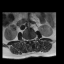CCS_normal: (29, 37, 30, 44)
LFS_normal: (32, 36, 34, 42)
LLS_normal: (30, 37, 32, 43)
RFS_normal: (25, 37, 27, 42)
RLS_normal: (27, 37, 29, 42)
